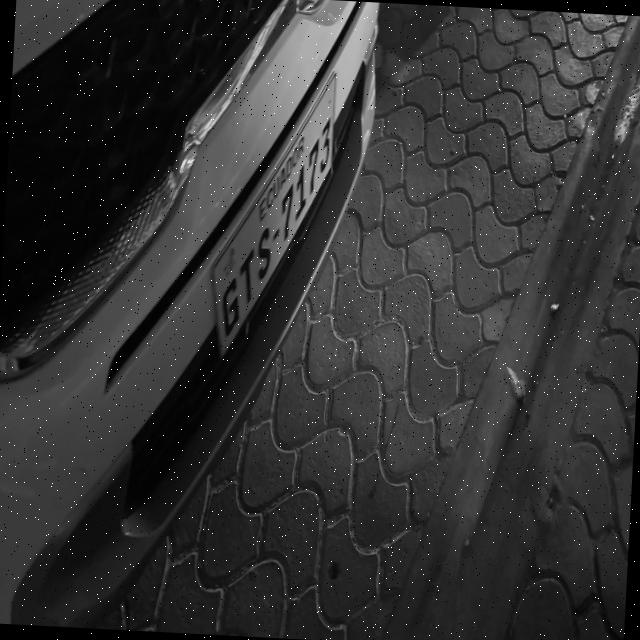Placa: (213, 75, 336, 355)
